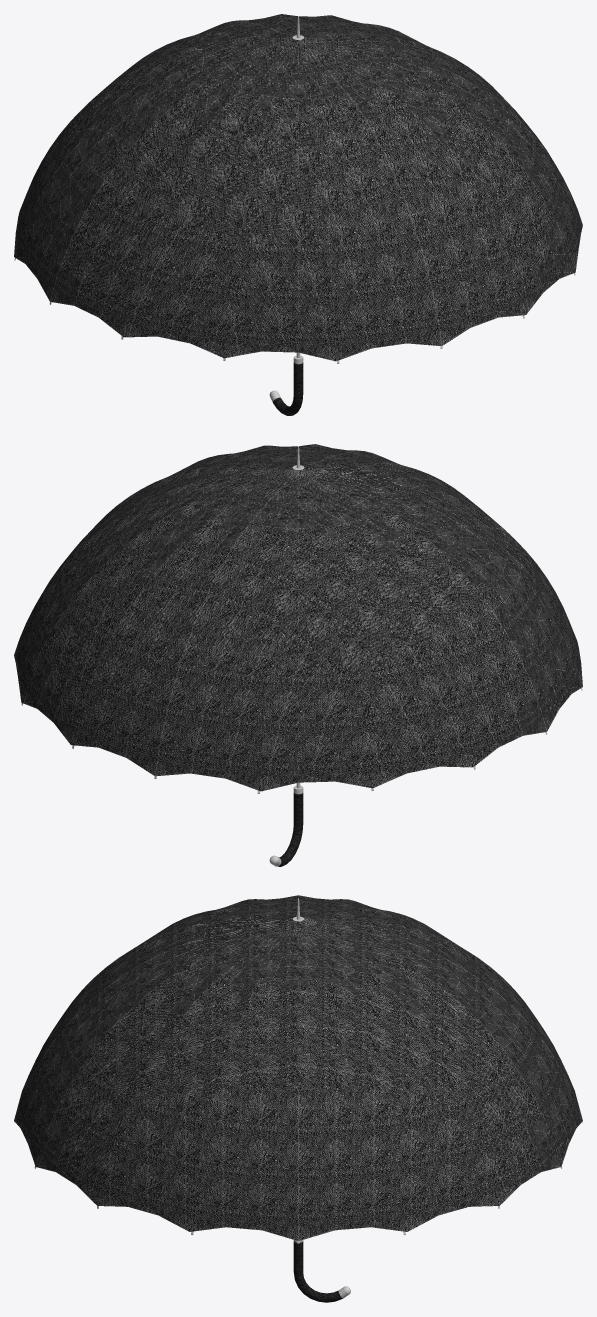
Rendered from Umbrella.fbx.
The picture shows the model from 3 angles, top to bottom: view 1: azimuth 30°, elevation 25°; view 2: azimuth 150°, elevation 25°; view 3: azimuth 270°, elevation 25°; orthographic projection.
Parts seen in each view (by area): view 1: default; view 2: default; view 3: default.
Part boxes in pixels (left/top/right/bottom): default: left=14, top=14, right=582, bottom=415; default: left=14, top=444, right=582, bottom=866; default: left=14, top=895, right=582, bottom=1302.
Bounding box in the file's own units: 966 × 757 × 966.
